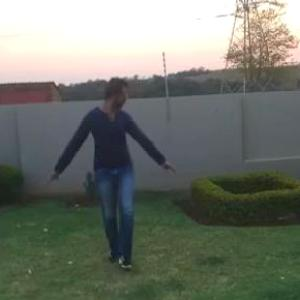land: (19, 67, 190, 291)
